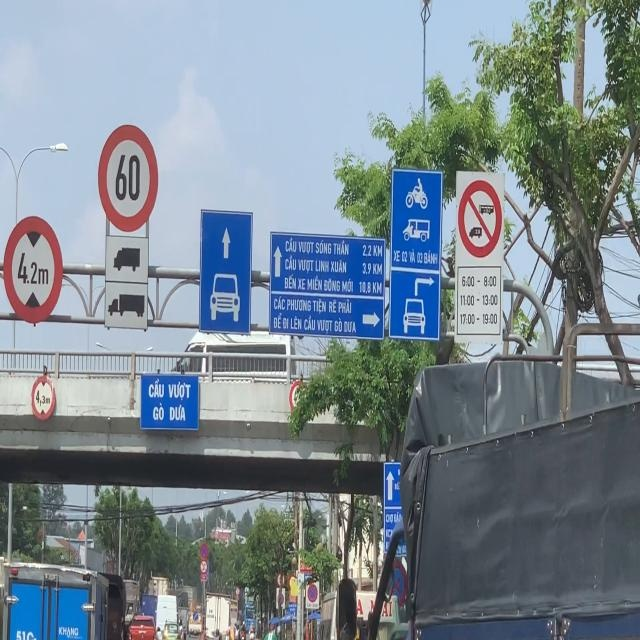bien_cam: (3, 215, 64, 324), (98, 125, 159, 232), (384, 560, 408, 611), (31, 376, 56, 420), (307, 584, 318, 603), (200, 543, 208, 559), (193, 612, 198, 620)
